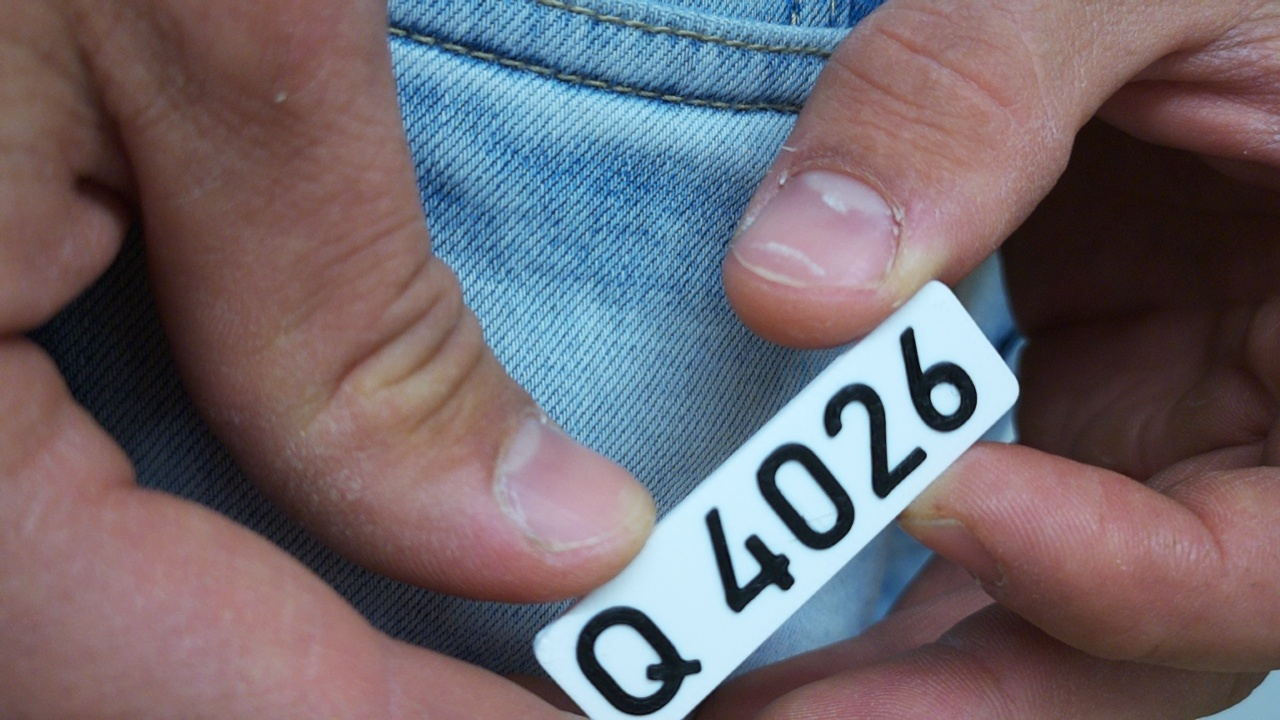license_plate: (529, 276, 1026, 720)
